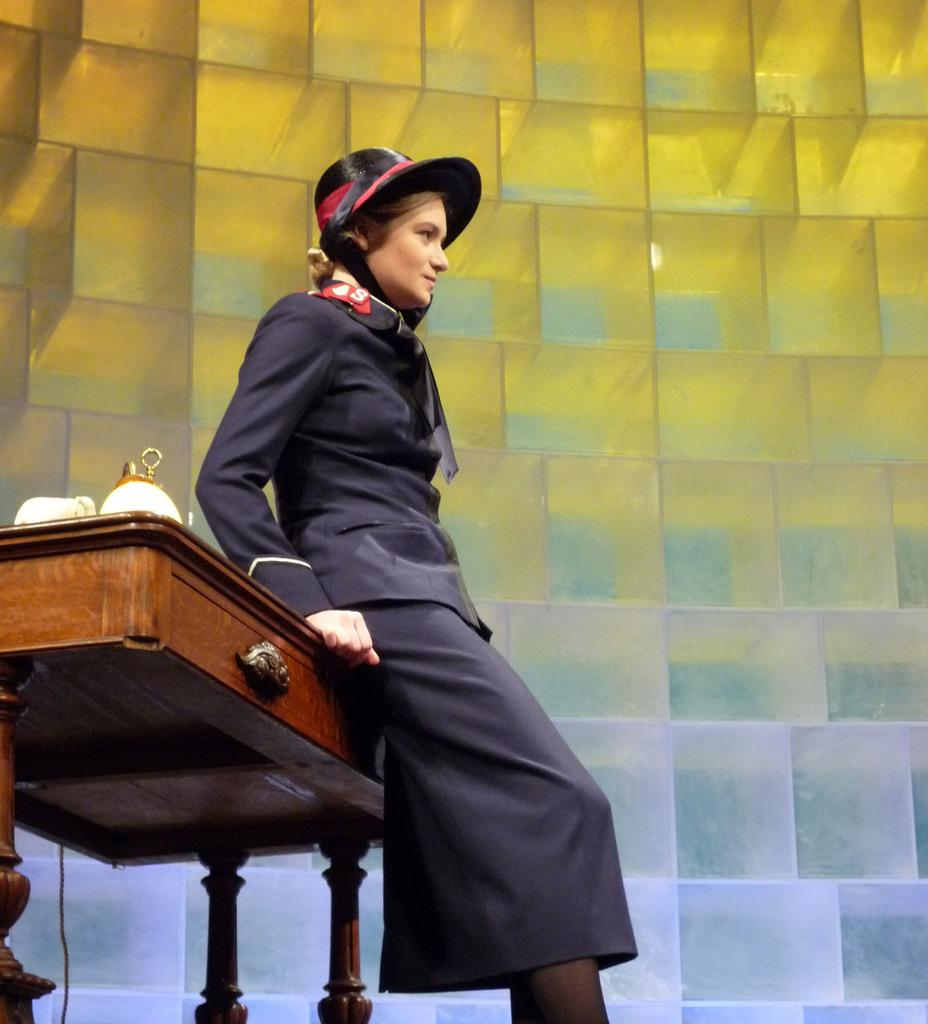Hat: (312, 147, 480, 297)
